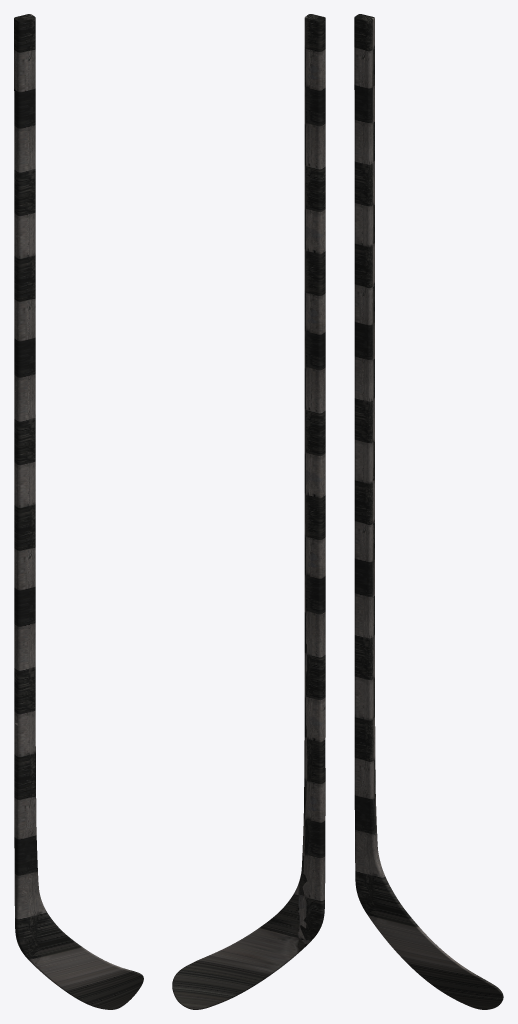
3 views of the same model, side by side, from view 1: azimuth 30°, elevation 25°; view 2: azimuth 150°, elevation 25°; view 3: azimuth 330°, elevation 25° (orthographic). The views are drawn at different scales.
Parts seen in each view (by area): view 1: geometry_0; view 2: geometry_0; view 3: geometry_0.
Boxes of the visible parts, x1,y1,x2,y2 form: geometry_0: (14,14,143,1009); geometry_0: (172,14,325,1009); geometry_0: (354,14,503,1009).
Bounding box in the file's own units: 237 × 1650 × 59.49.
Materials: 1 (1 with a texture image).
